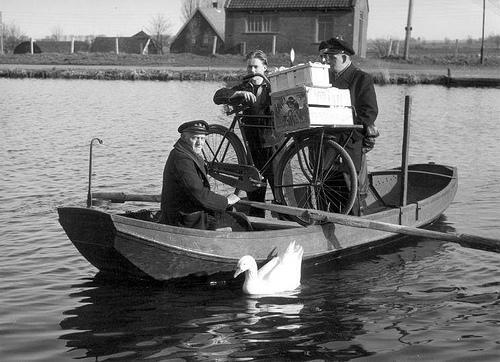bicycle: (200, 98, 364, 214)
